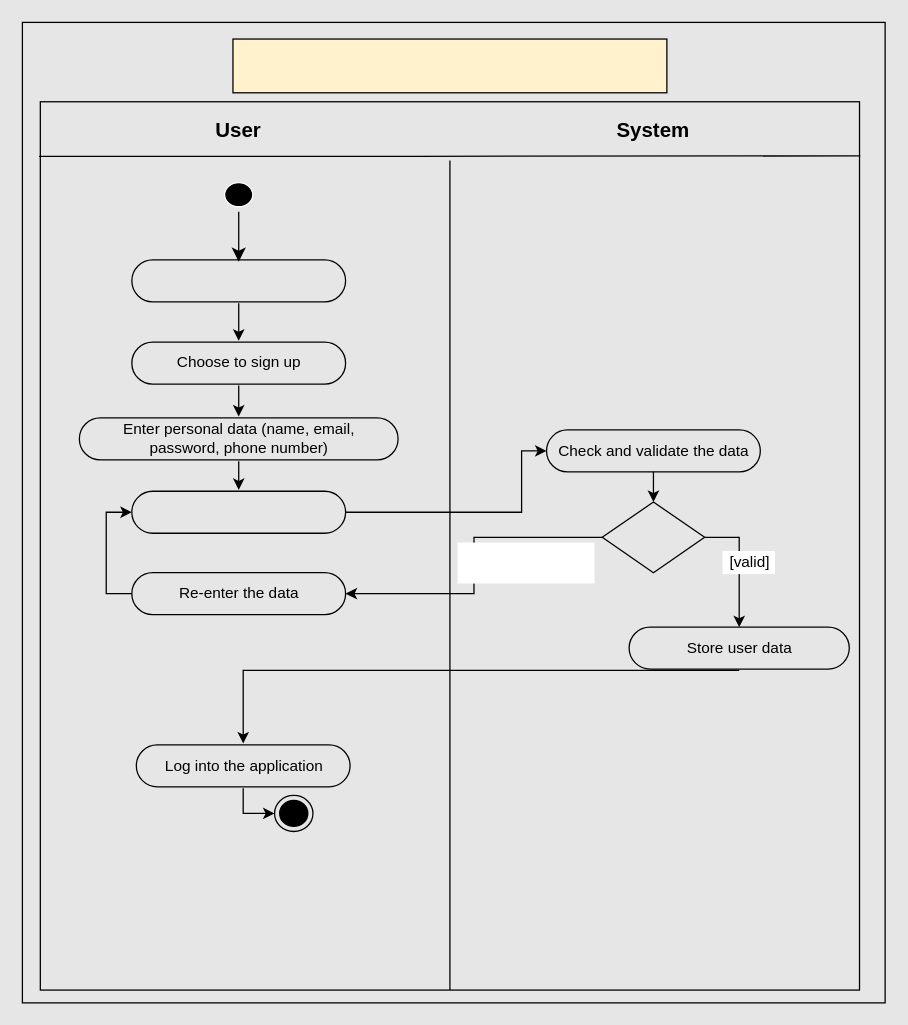
Some shapes in this 908 by 1025 pixel diagram are drawn without their labels. Here are the shapes that lost their labels. From the top down, the centre of each, then its label:
At (x=449, y=65): "Activity diagram for : 'Sign up'".
At (x=238, y=280): "Open application".
At (x=238, y=511): "Submit the data".
At (x=525, y=562): "[Existing before or invalid data]".
